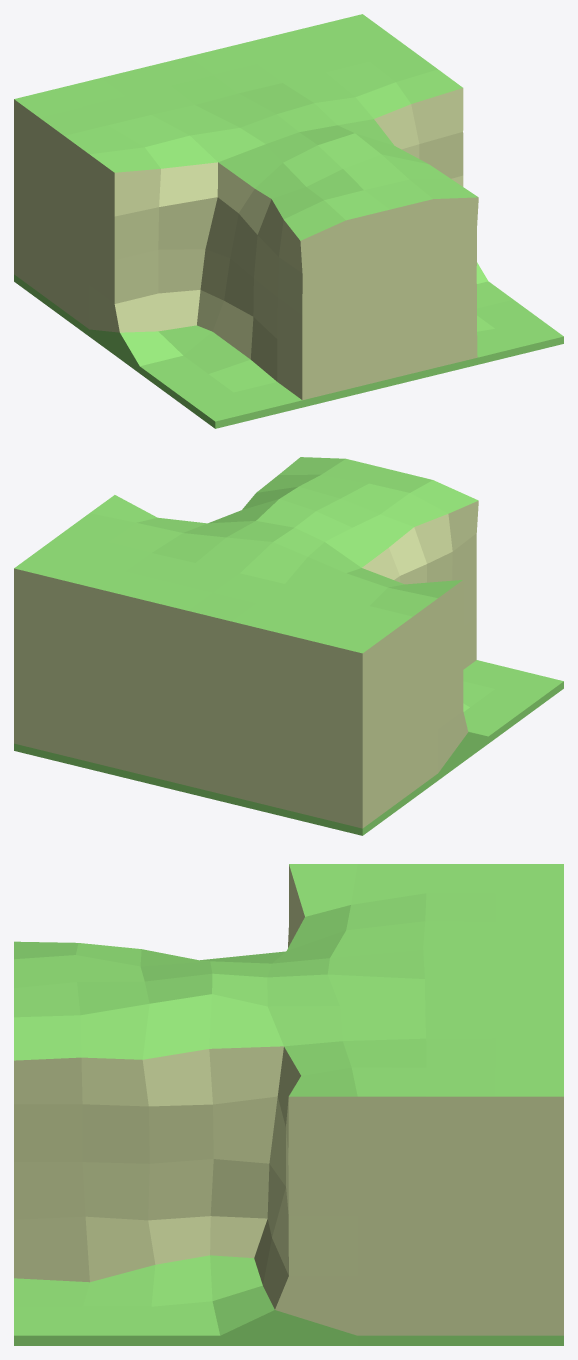
Rendered from wall_straight_join1_1.glb.
The picture shows the model from 3 angles, top to bottom: view 1: azimuth 30°, elevation 25°; view 2: azimuth 150°, elevation 25°; view 3: azimuth 270°, elevation 25°; orthographic projection. The views are drawn at different scales.
Visible parts, largest first — view 1: wall_slim_join1_1; view 2: wall_slim_join1_1; view 3: wall_slim_join1_1.
Boxes of the visible parts, x1,y1,x2,y2 form: wall_slim_join1_1: (14, 14, 563, 428); wall_slim_join1_1: (14, 457, 563, 835); wall_slim_join1_1: (14, 864, 563, 1345).
Size of the model in its own units: 2 by 1.05 by 2.
